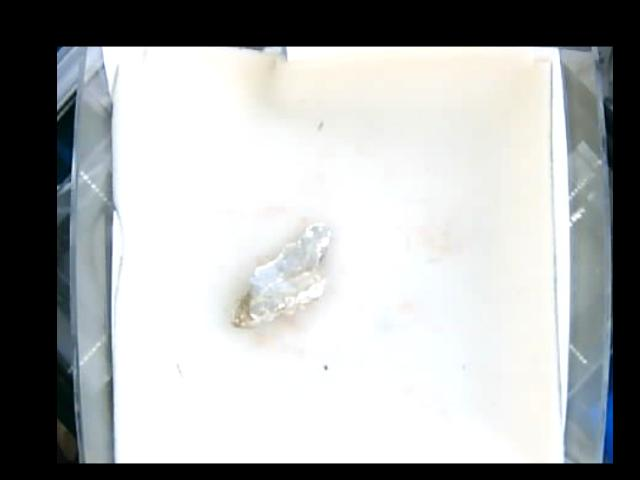Brisk: (233, 226, 328, 327)
